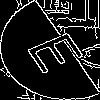E: (25, 25, 97, 76)
